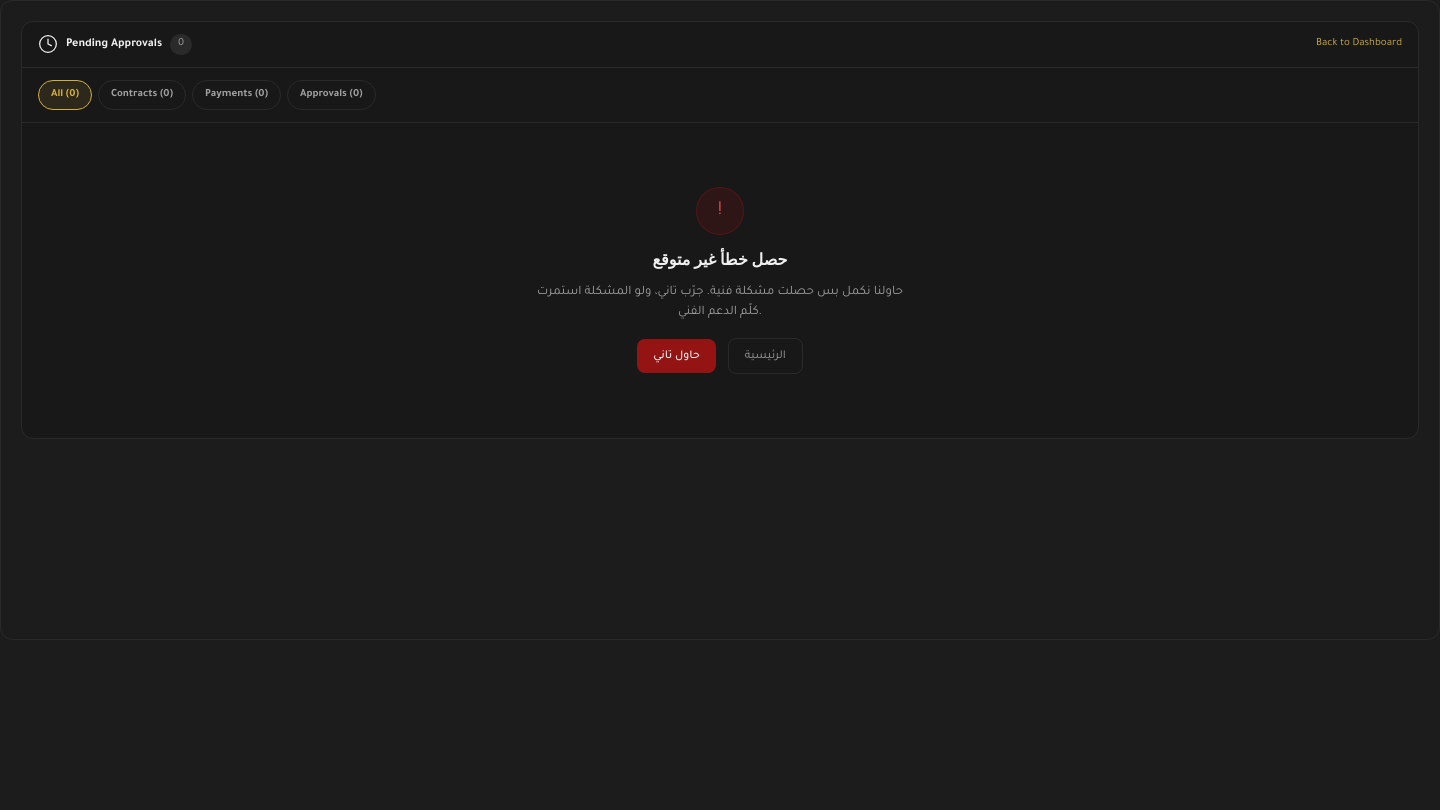
Test: PendingApprovalsListView › shows an error state with a retry instead of "Nothing pending" when the request fails
This screenshot has width=1440, height=810.
Click the button "حاول تاني" at (677, 356), box [637,339,716,373]
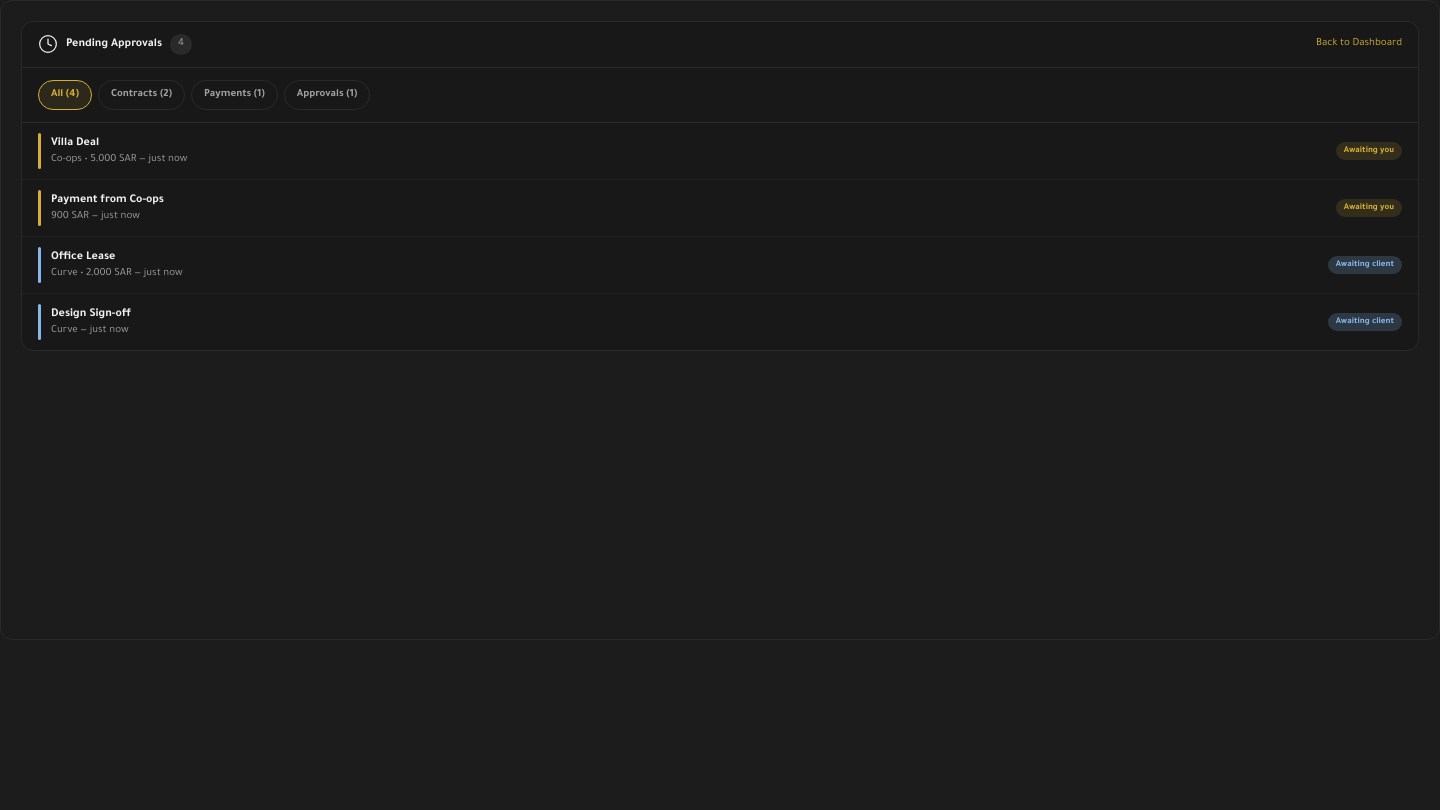
Expected: the text "Villa Deal" is shown, [51,137,99,149]
